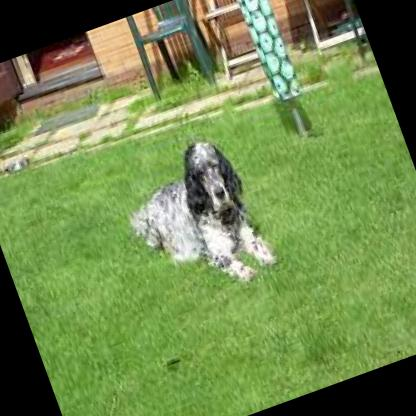English_setter: (100, 121, 278, 312)
